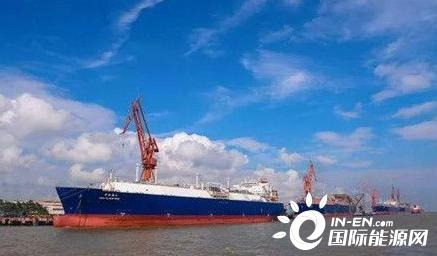Cargoship: (46, 170, 285, 231), (291, 180, 360, 218), (371, 191, 412, 216)
